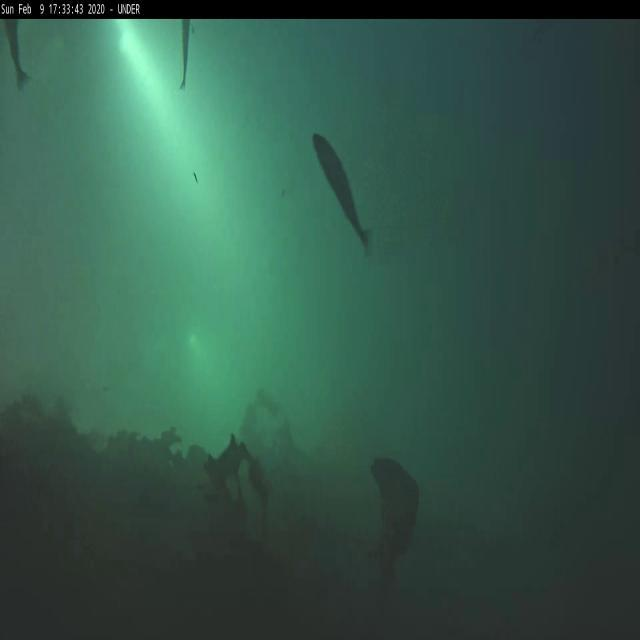fish: (311, 134, 374, 256), (3, 20, 33, 92), (179, 18, 194, 96)
